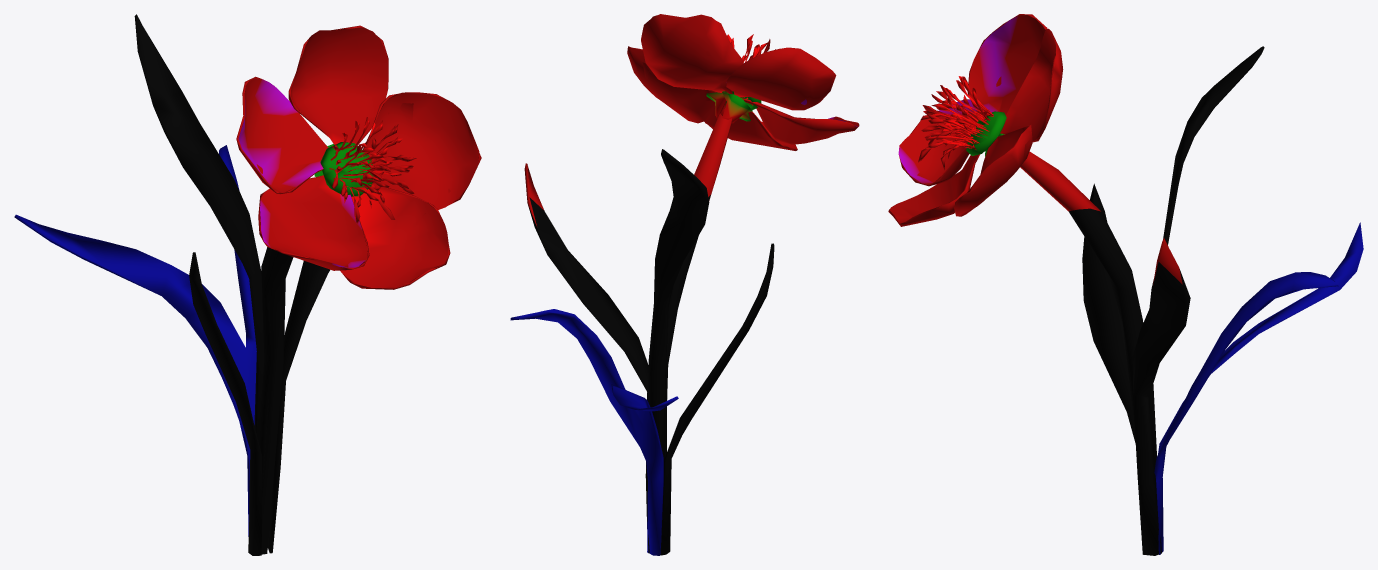
The model's file is flower_04_sunflower.glb.
3 views of the same model, side by side, from view 1: azimuth 30°, elevation 25°; view 2: azimuth 150°, elevation 25°; view 3: azimuth 270°, elevation 25° (orthographic). The views are drawn at different scales.
Visible parts, largest first — view 1: Flower_Petals, Flower_Leaves, Flower_Stem; view 2: Flower_Leaves, Flower_Petals, Flower_Stem; view 3: Flower_Petals, Flower_Leaves, Flower_Stem.
Boxes of the visible parts, x1=… form: Flower_Petals: x1=236, y1=25, x2=481, y2=289; Flower_Leaves: x1=14, y1=14, x2=329, y2=555; Flower_Stem: x1=258, y1=247, x2=293, y2=554; Flower_Leaves: x1=510, y1=149, x2=774, y2=555; Flower_Petals: x1=524, y1=14, x2=859, y2=225; Flower_Stem: x1=664, y1=195, x2=710, y2=457; Flower_Petals: x1=888, y1=14, x2=1182, y2=284; Flower_Leaves: x1=1082, y1=46, x2=1363, y2=555; Flower_Stem: x1=1068, y1=208, x2=1143, y2=429.
Bounding box in the file's own units: 0.6828 × 1.32 × 1.09.
